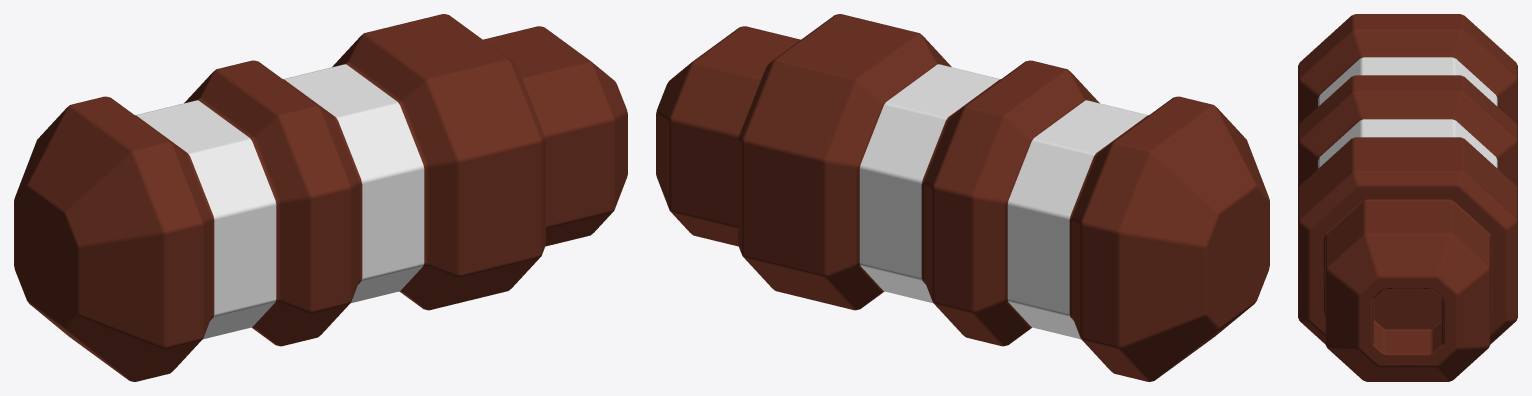
Rendered from Laser.fbx.
3 renders of one model, left to right at view 1: azimuth 30°, elevation 25°; view 2: azimuth 150°, elevation 25°; view 3: azimuth 270°, elevation 25°, orthographic. The views are drawn at different scales.
Parts seen in each view (by area): view 1: Cube.001; view 2: Cube.001; view 3: Cube.001.
Boxes of the visible parts, box(x1,y1,x2,y2) form: Cube.001: box(14, 14, 627, 381); Cube.001: box(656, 14, 1269, 381); Cube.001: box(1298, 14, 1517, 381).
Bounding box in the file's own units: 250 × 100 × 100.
